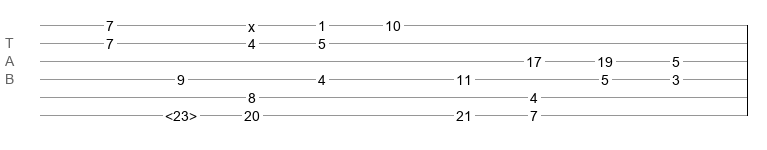1: (318, 18, 326, 28)
10: (385, 18, 401, 28)
11: (456, 72, 472, 82)
17: (526, 54, 542, 64)
19: (597, 54, 613, 64)
20: (244, 108, 260, 118)
21: (456, 108, 472, 118)
3: (672, 72, 680, 82)
4: (248, 36, 256, 46), (318, 72, 326, 82), (530, 90, 538, 100)
5: (318, 36, 326, 46), (601, 72, 609, 82), (672, 54, 680, 64)
7: (106, 18, 114, 28), (106, 36, 114, 46), (530, 108, 538, 118)
8: (248, 90, 256, 100)
9: (177, 72, 185, 82)
harmonic: (165, 108, 197, 118)
x: (248, 19, 255, 27)
